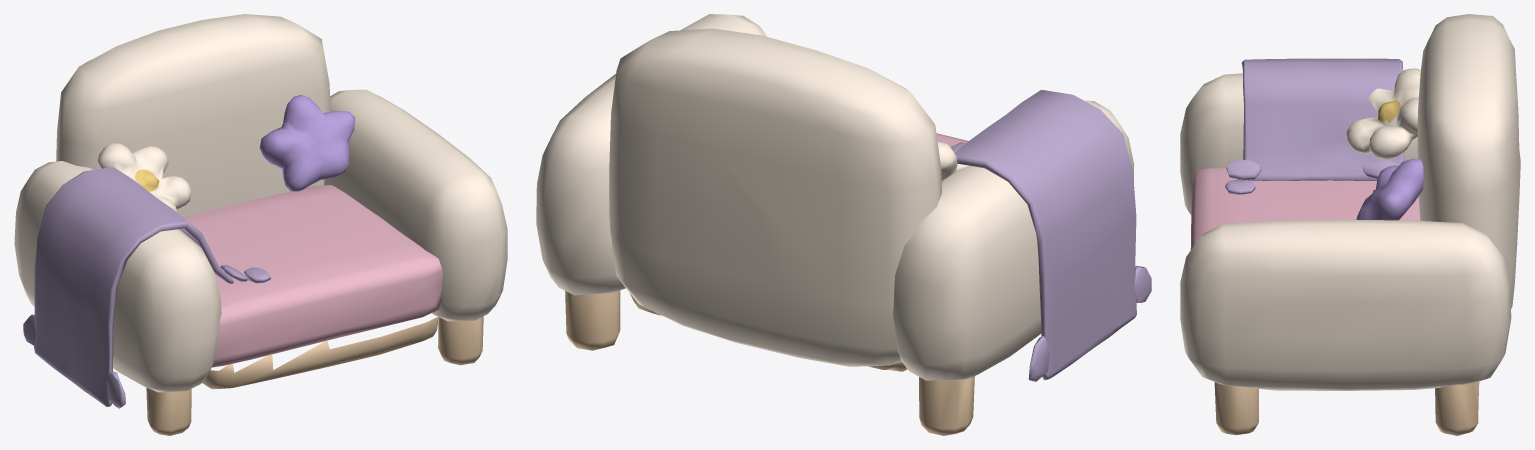
File: petal-armchair.glb
The picture shows the model from 3 angles, left to right: view 1: azimuth 30°, elevation 25°; view 2: azimuth 150°, elevation 25°; view 3: azimuth 270°, elevation 25°; orthographic projection. The views are drawn at different scales.
Visible parts, largest first — view 1: petal-armchair; view 2: petal-armchair; view 3: petal-armchair.
Part boxes in pixels (box(x1,y1,x2,y2)): petal-armchair: box(14, 14, 507, 435); petal-armchair: box(536, 14, 1151, 435); petal-armchair: box(1180, 14, 1520, 435).
Size of the model in its own units: 1.92 by 1.38 by 1.4.
